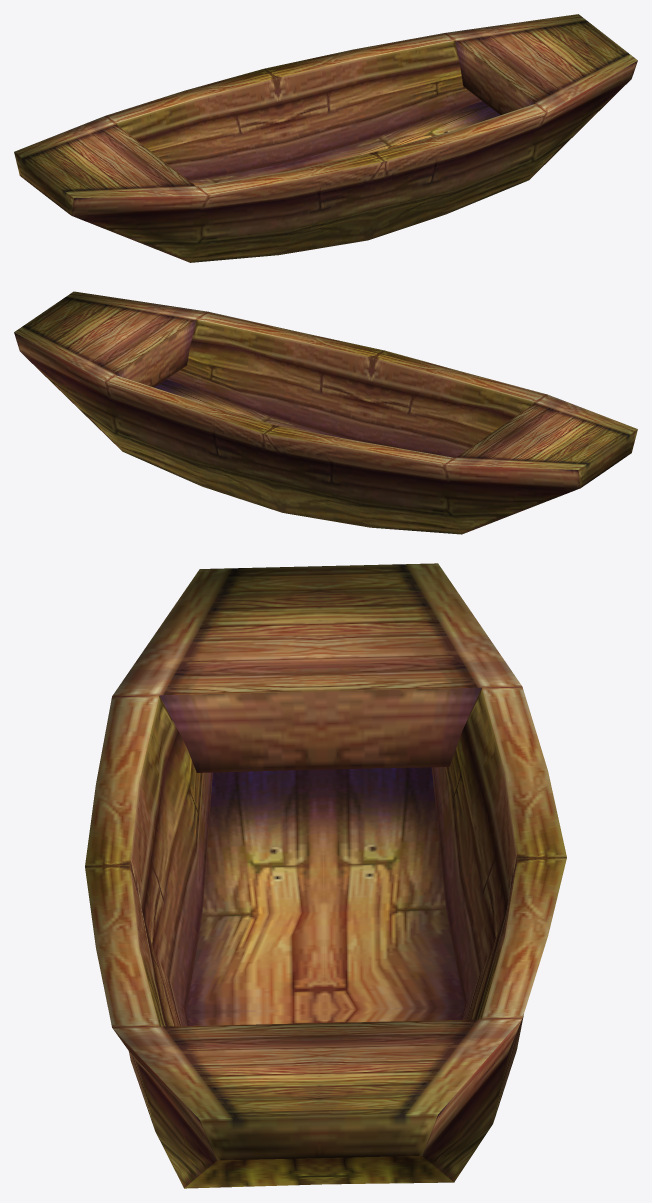
The model's file is environment_common_chenchuan_001_b.FBX.
3 views of the same model, one above another, from view 1: azimuth 30°, elevation 25°; view 2: azimuth 150°, elevation 25°; view 3: azimuth 270°, elevation 25° (orthographic). The views are drawn at different scales.
Parts seen in each view (by area): view 1: environment_common_chenchuan_001_b; view 2: environment_common_chenchuan_001_b; view 3: environment_common_chenchuan_001_b.
Boxes of the visible parts, x1,y1,x2,y2 form: environment_common_chenchuan_001_b: (14,14,637,262); environment_common_chenchuan_001_b: (14,291,637,534); environment_common_chenchuan_001_b: (85,563,566,1188).
Bounding box in the file's own units: 757 × 134 × 280.
